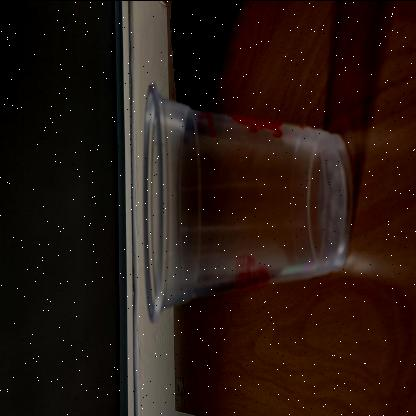Others: (142, 76, 356, 324)
